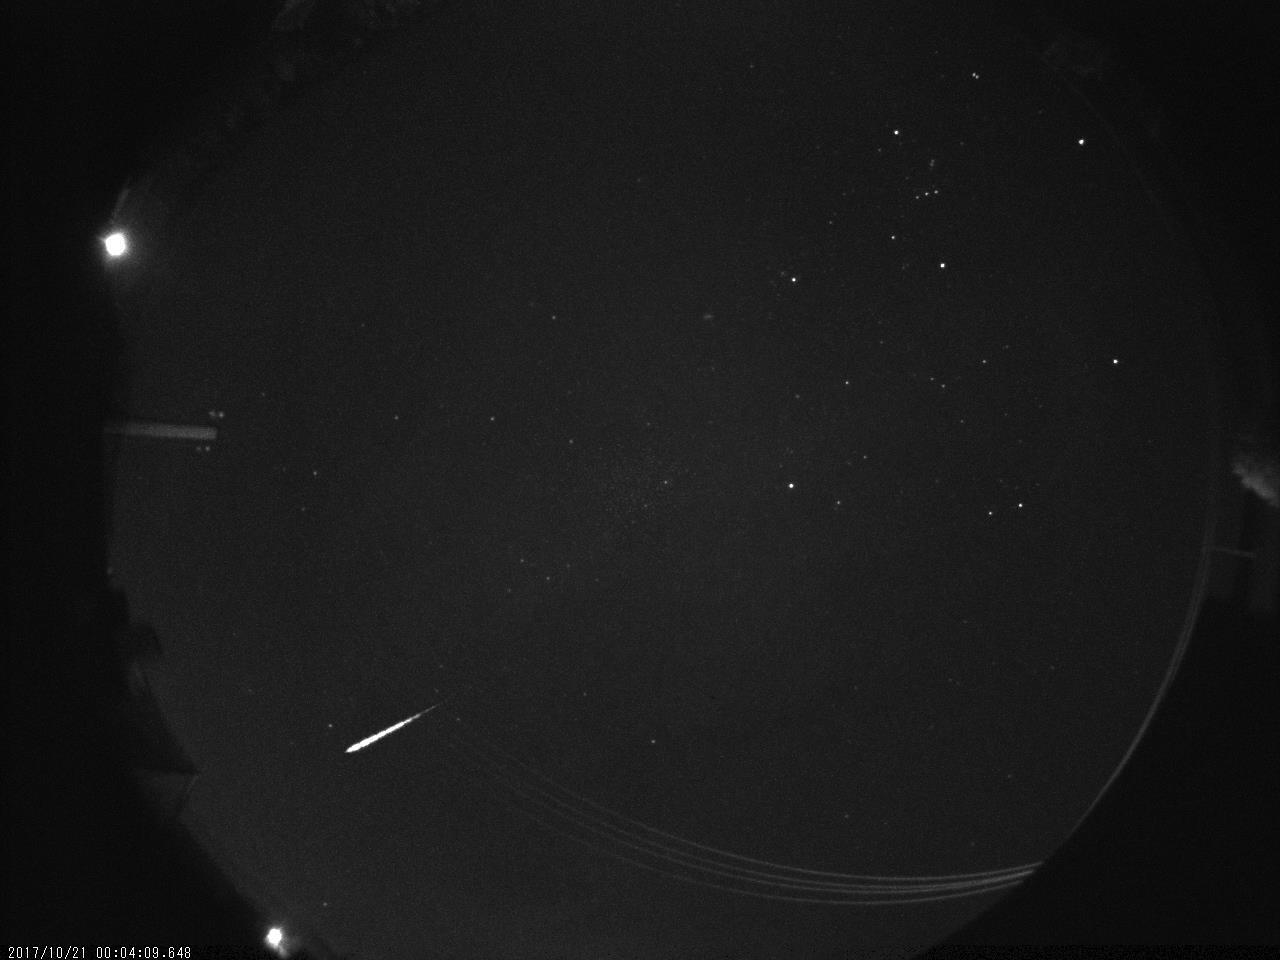Meteor: (336, 690, 460, 765)
